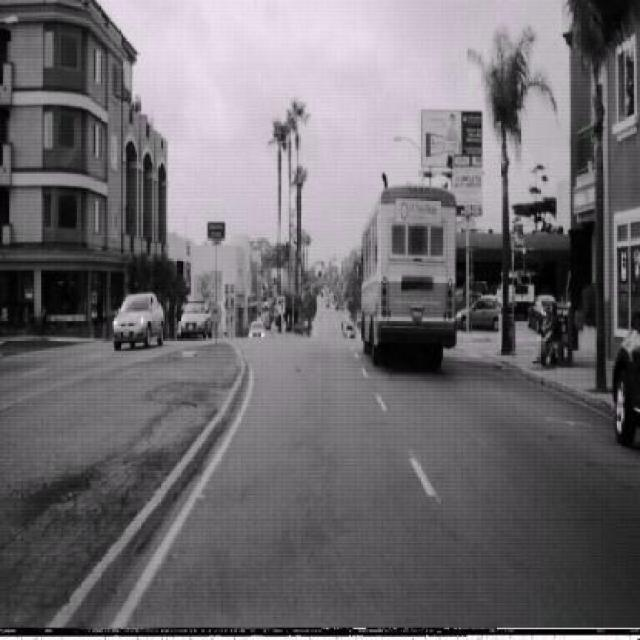keepRight: (277, 294, 286, 314)
